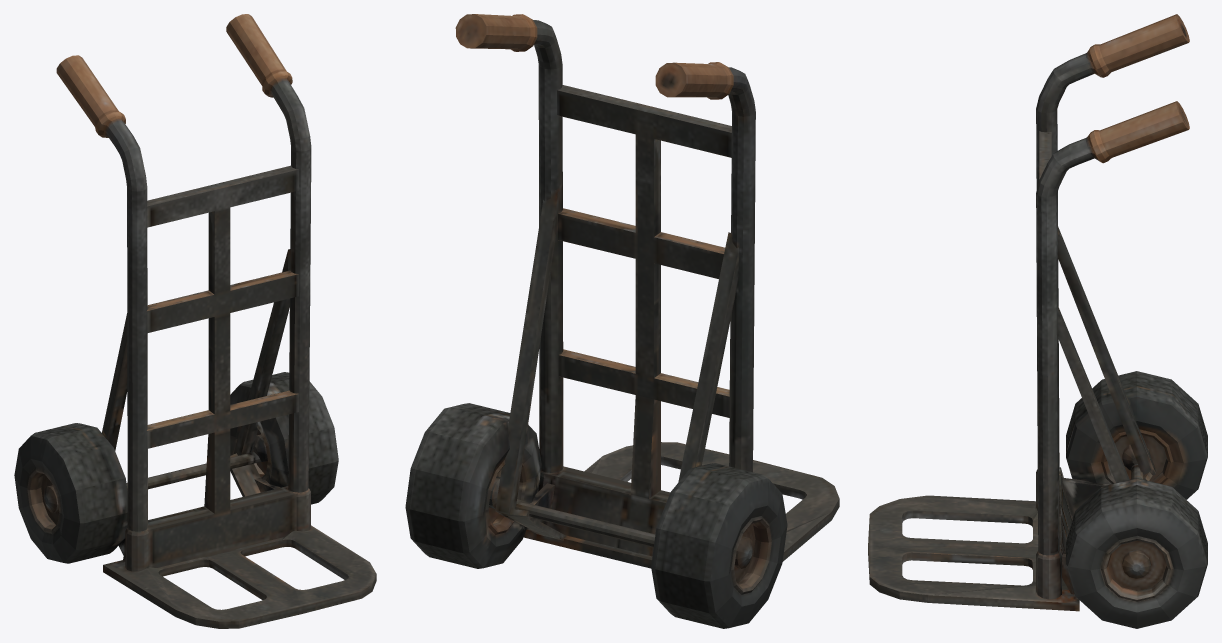
File: Cart.fbx
The picture shows the model from 3 angles, left to right: view 1: azimuth 30°, elevation 25°; view 2: azimuth 150°, elevation 25°; view 3: azimuth 270°, elevation 25°; orthographic projection. The views are drawn at different scales.
Parts seen in each view (by area): view 1: Cart_Low; view 2: Cart_Low; view 3: Cart_Low.
Boxes of the visible parts, <box> form: Cart_Low: <box>14,14,376,628</box>; Cart_Low: <box>405,14,839,628</box>; Cart_Low: <box>868,14,1207,628</box>.
Size of the model in its own units: 0.7436 by 1.27 by 0.7736.
